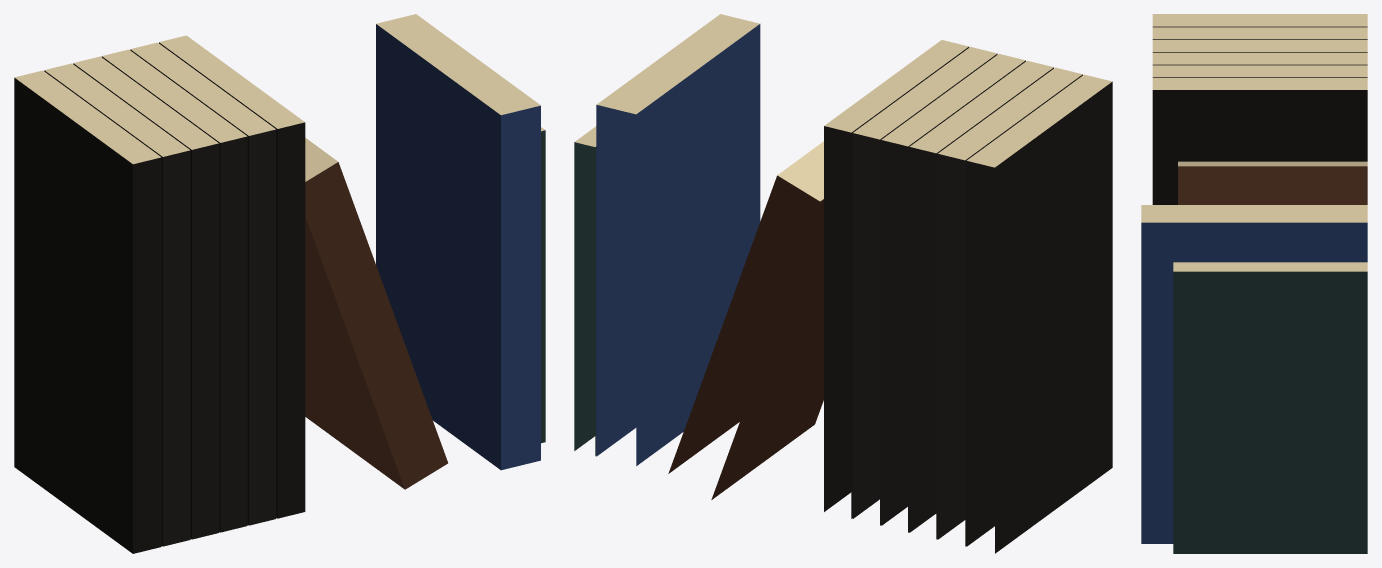
The model's file is bookrow_tall_6_lod.glb.
3 views of the same model, side by side, from view 1: azimuth 30°, elevation 25°; view 2: azimuth 150°, elevation 25°; view 3: azimuth 270°, elevation 25° (orthographic). The views are drawn at different scales.
Visible parts, largest first — view 1: bookrow_tall_6_lod; view 2: bookrow_tall_6_lod; view 3: bookrow_tall_6_lod.
Part boxes in pixels (<box>): bookrow_tall_6_lod: <box>14,14,545,553</box>; bookrow_tall_6_lod: <box>574,14,1112,553</box>; bookrow_tall_6_lod: <box>1141,14,1367,553</box>.
Size of the model in its own units: 0.4835 by 0.4418 by 0.2469.
